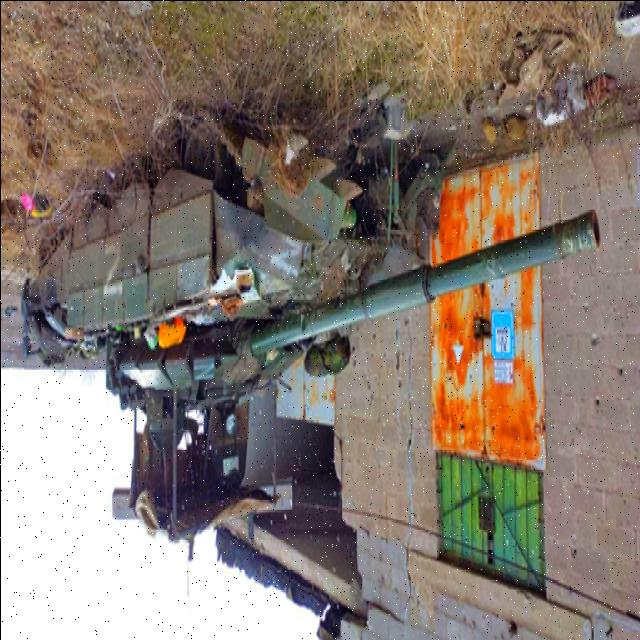TANK: (21, 96, 600, 544)
